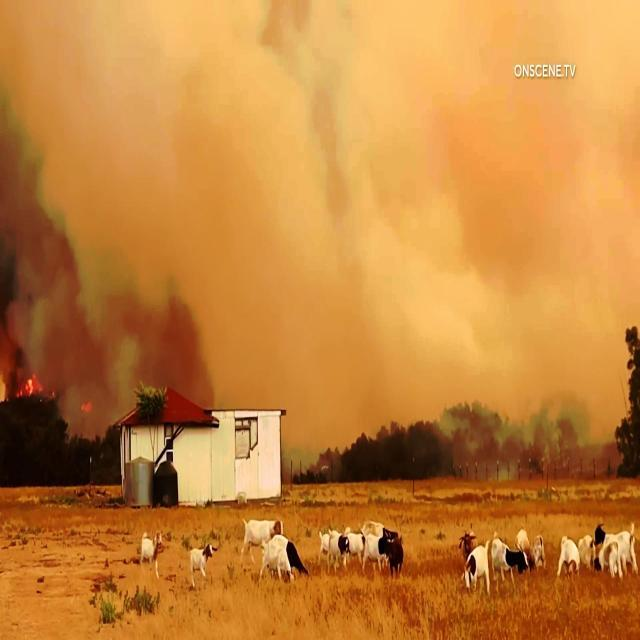Fire: (2, 366, 50, 418)
Smoke: (0, 1, 640, 375)
